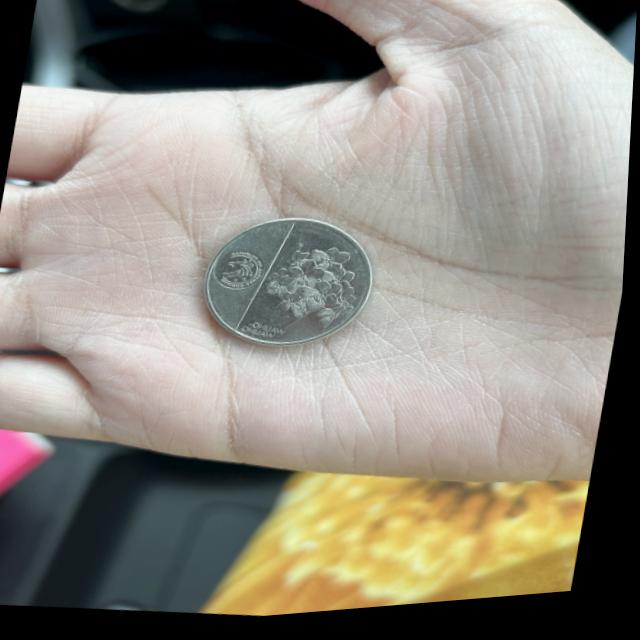1_New_Back: (262, 244, 370, 342)
